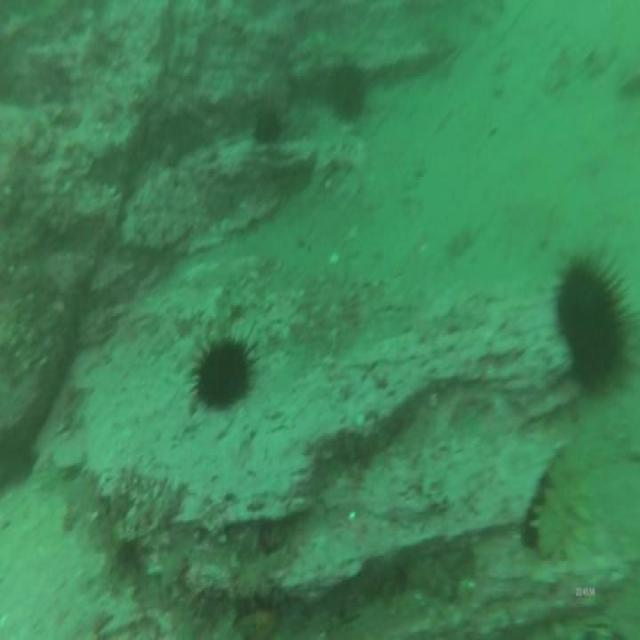echinus: (554, 252, 636, 402), (188, 328, 258, 416), (328, 60, 370, 123), (250, 102, 284, 148)
holothurian: (526, 423, 598, 568)
